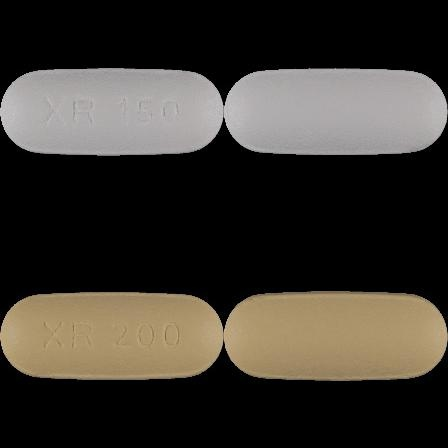0310-0281: (0, 0, 224, 224)
